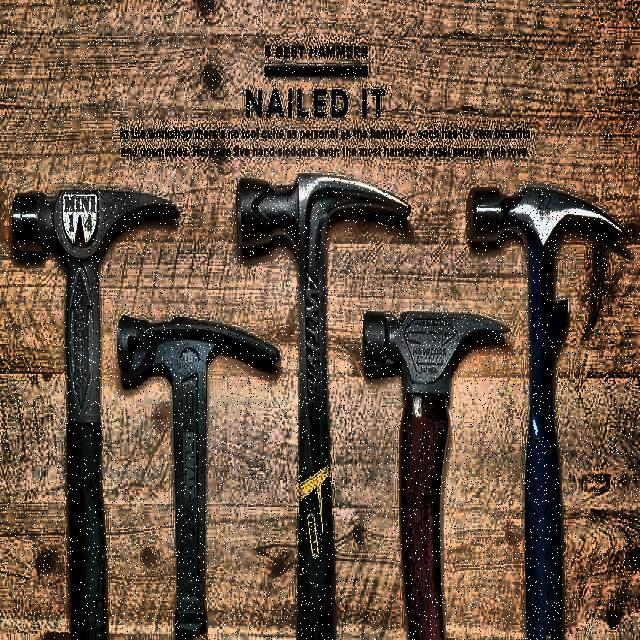hammer: (236, 173, 409, 640), (11, 186, 177, 640), (468, 173, 628, 640), (118, 308, 281, 640), (363, 305, 511, 640)
